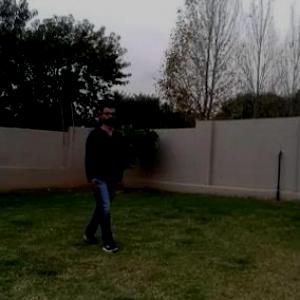follow: (85, 99, 120, 238)
